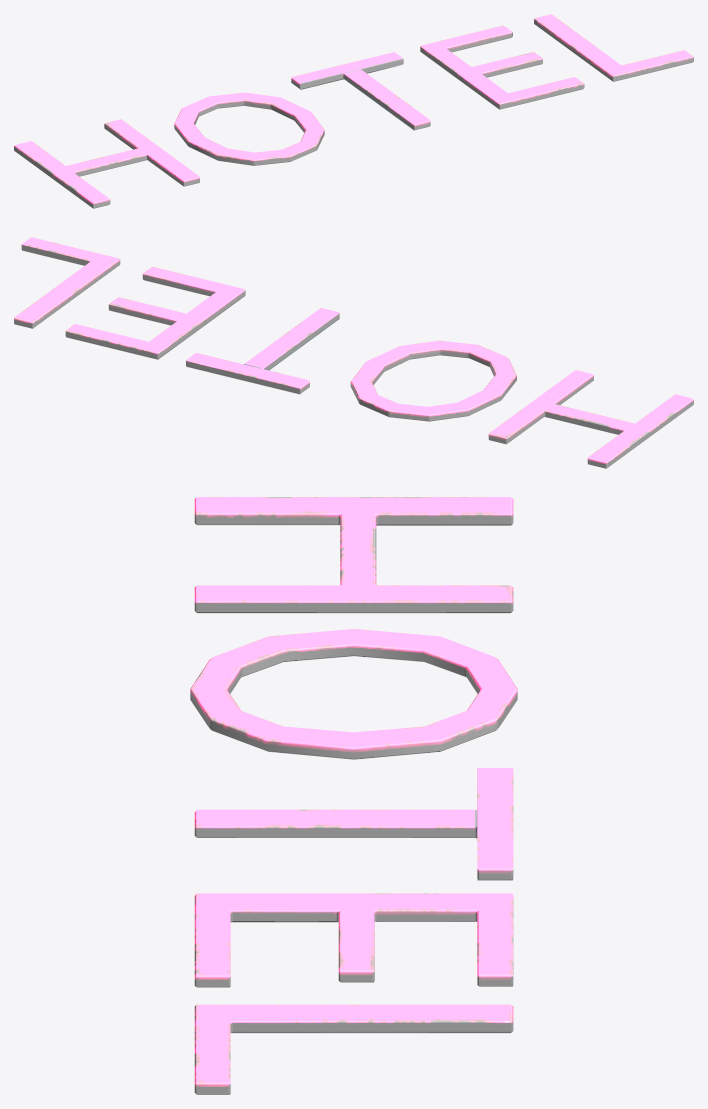
Rendered from SM_3DT_Sign_Hotel.fbx.
The picture shows the model from 3 angles, top to bottom: view 1: azimuth 30°, elevation 25°; view 2: azimuth 150°, elevation 25°; view 3: azimuth 270°, elevation 25°; orthographic projection. The views are drawn at different scales.
Visible parts, largest first — view 1: SM_3DT_Sign_Hotel; view 2: SM_3DT_Sign_Hotel; view 3: SM_3DT_Sign_Hotel.
Part boxes in pixels (<box>): SM_3DT_Sign_Hotel: <box>14,14,693,208</box>; SM_3DT_Sign_Hotel: <box>14,237,693,468</box>; SM_3DT_Sign_Hotel: <box>190,497,517,1094</box>.
Size of the model in its own units: 318 by 3.2 by 75.03.
